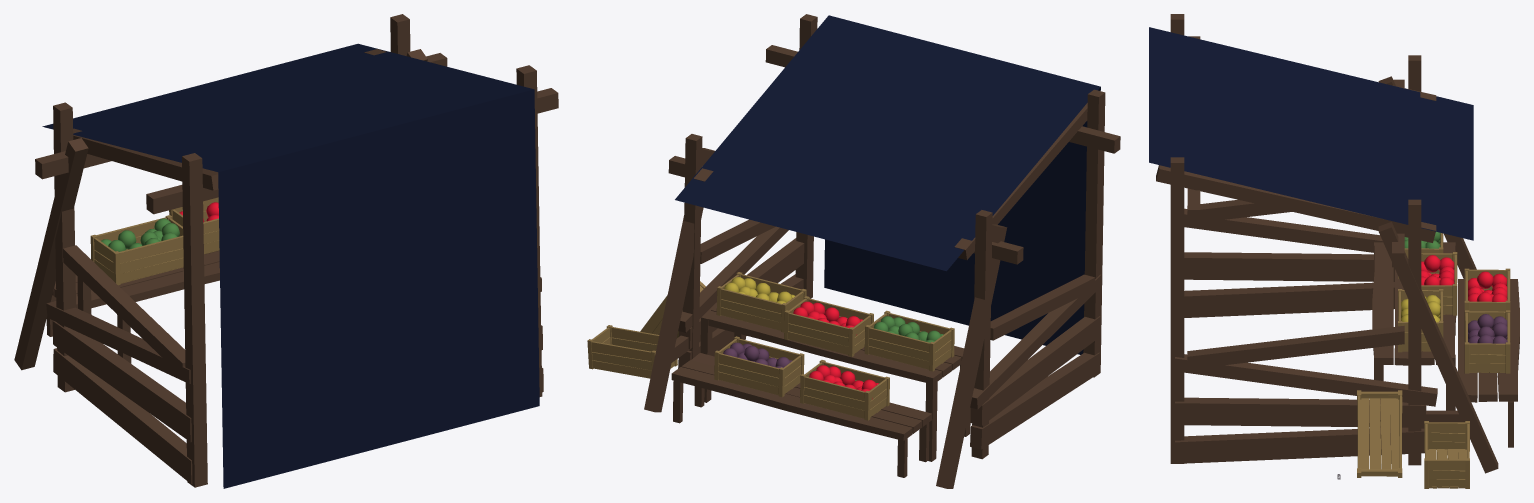
File: GroceryShop.fbx
3 views of the same model, side by side, from view 1: azimuth 30°, elevation 25°; view 2: azimuth 150°, elevation 25°; view 3: azimuth 270°, elevation 25° (orthographic). The views are drawn at different scales.
Visible parts, largest first — view 1: Cube.032; view 2: Cube.032; view 3: Cube.032.
Part boxes in pixels (left/top/right/bottom): Cube.032: left=14, top=14, right=558, bottom=488; Cube.032: left=587, top=14, right=1120, bottom=488; Cube.032: left=1149, top=14, right=1519, bottom=488.
Size of the model in its own units: 4.13 by 2.9 by 3.12.
